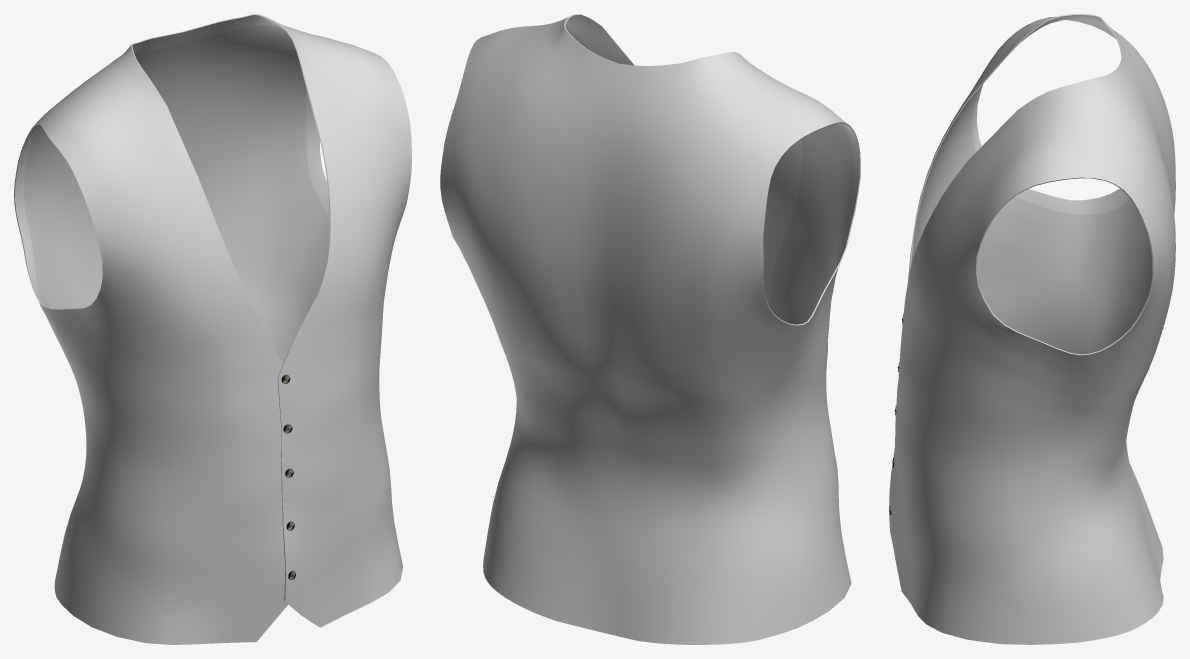
Rendered from SM_CarlosSA_Waistcoat_FrontButtons_SB5NoLapel.fbx.
The picture shows the model from 3 angles, left to right: view 1: azimuth 30°, elevation 25°; view 2: azimuth 150°, elevation 25°; view 3: azimuth 270°, elevation 25°; orthographic projection. The views are drawn at different scales.
Visible parts, largest first — view 1: SM_CarlosSA_Waistcoat_FrontButtons_SB5NoLapel; view 2: SM_CarlosSA_Waistcoat_FrontButtons_SB5NoLapel; view 3: SM_CarlosSA_Waistcoat_FrontButtons_SB5NoLapel.
Part boxes in pixels (left/top/right/bottom): SM_CarlosSA_Waistcoat_FrontButtons_SB5NoLapel: left=14, top=14, right=411, bottom=644; SM_CarlosSA_Waistcoat_FrontButtons_SB5NoLapel: left=440, top=14, right=860, bottom=644; SM_CarlosSA_Waistcoat_FrontButtons_SB5NoLapel: left=889, top=14, right=1175, bottom=644.
Size of the model in its own units: 0.3797 by 0.5809 by 0.2829.
